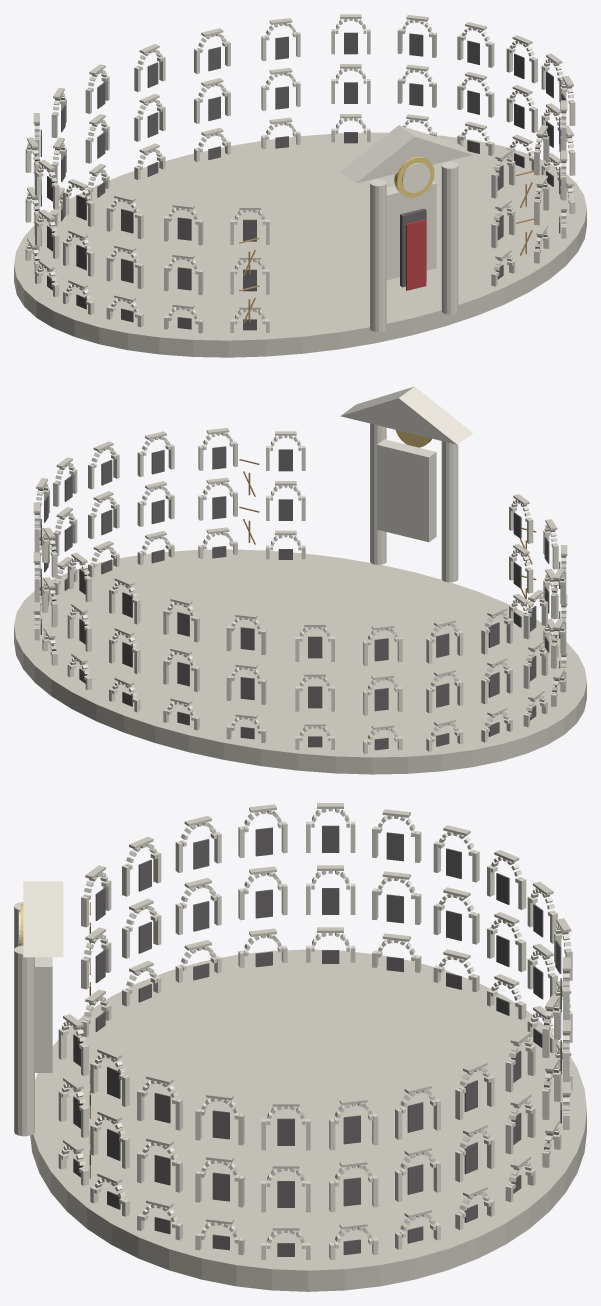
The model's file is entree_colisee.glb.
3 renders of one model, top to bottom at view 1: azimuth 30°, elevation 25°; view 2: azimuth 150°, elevation 25°; view 3: azimuth 270°, elevation 25°, orthographic. The views are drawn at different scales.
Parts seen in each view (by area): view 1: Cylinder, fronton, Cylinder.002, Cube, Cylinder.001, Cube.007, Cube.019, Cube.020, Cube.010, Cube.012, Cube.011, Cube.018 (+17 smaller); view 2: Cylinder, Cube, fronton, Cylinder.001, Cube.003, Cube.015, Cube.012, Cube.002, Cube.014, Cube.004, Cube.011, Cube.016 (+14 smaller); view 3: Cylinder, Cylinder.002, Cube.019, Cube.003, Cube.016, Cube.007, Cube.015, Cube.018, Cube.004, Cube.006, Cube.014, Cube.020 (+13 smaller).
Boxes of the visible parts, x1,y1,x2,y2 form: Cylinder: [14, 132, 586, 357]; fronton: [340, 125, 472, 183]; Cylinder.002: [441, 161, 458, 314]; Cube: [386, 181, 436, 280]; Cylinder.001: [370, 179, 386, 331]; Cube.007: [457, 22, 494, 155]; Cube.019: [106, 193, 143, 327]; Cube.020: [164, 202, 203, 333]; Cube.010: [261, 18, 300, 149]; Cube.012: [134, 44, 165, 179]; Cube.011: [194, 28, 230, 161]; Cube.018: [63, 179, 94, 314]; Cylinder: [14, 549, 586, 774]; Cube: [377, 439, 436, 542]; fronton: [340, 386, 472, 444]; Cylinder.001: [441, 441, 458, 582]; Cube.003: [137, 431, 174, 565]; Cube.015: [426, 618, 463, 751]; Cube.012: [226, 612, 266, 743]; Cube.002: [198, 428, 237, 558]; Cube.014: [363, 623, 402, 754]; Cube.004: [88, 441, 119, 577]; Cube.011: [163, 596, 199, 730]; Cube.016: [481, 606, 512, 742]; Cylinder: [30, 949, 586, 1291]; Cylinder.002: [14, 945, 34, 1136]; Cube.019: [175, 816, 221, 982]; Cube.003: [137, 1073, 182, 1240]; Cube.016: [372, 809, 421, 972]; Cube.007: [395, 1083, 440, 1249]; Cube.015: [433, 825, 479, 992]; Cube.018: [238, 804, 287, 967]; Cube.004: [195, 1092, 244, 1255]; Cube.006: [329, 1097, 378, 1259]; Cube.014: [487, 850, 526, 1019]; Cube.020: [122, 836, 161, 1006].
Size of the model in its own units: 32.4 by 11.76 by 24.43.
